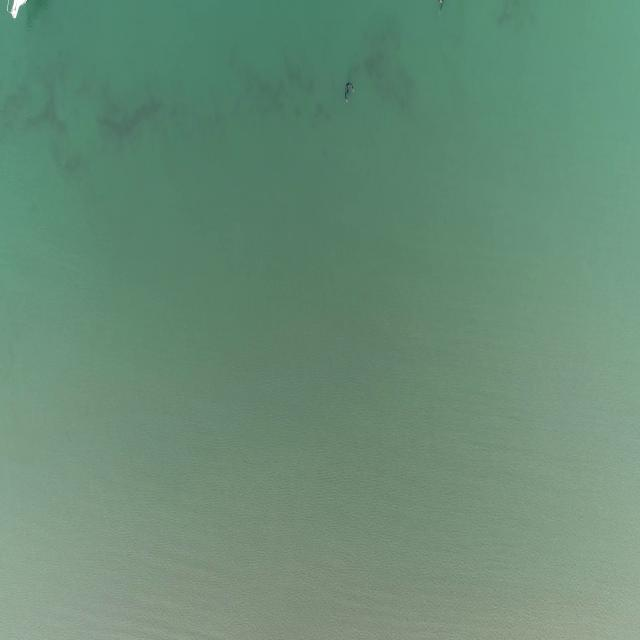person: (343, 81, 357, 103)
